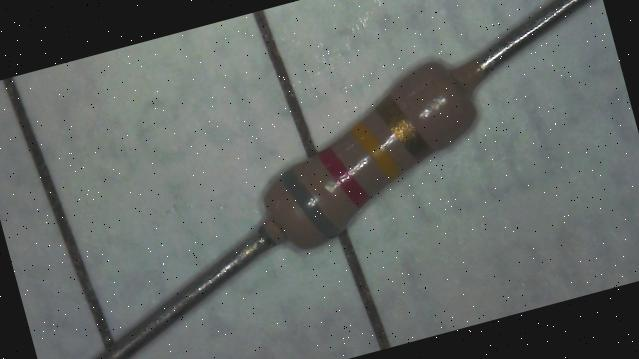gold: (375, 88, 432, 168)
grey: (278, 162, 338, 246)
red: (315, 139, 370, 213)
resistor: (216, 32, 510, 292)
yellow: (346, 114, 400, 186)
